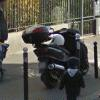Motorcycle: (24, 22, 88, 91)
